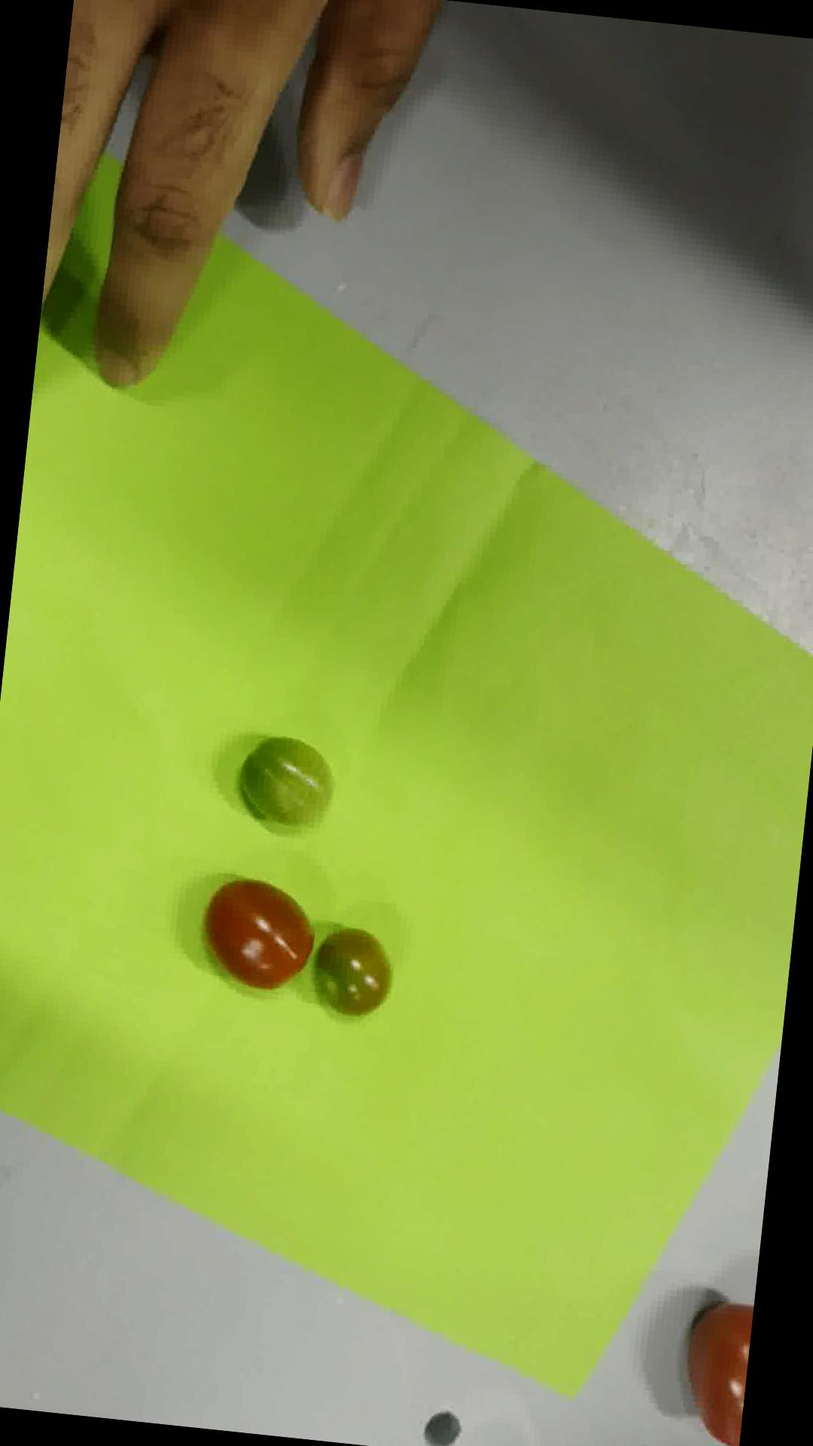green_cherry_tomato: (240, 736, 331, 827)
red_cherry_tomato: (206, 879, 314, 989)
yellow_cherry_tomato: (315, 927, 392, 1015)
